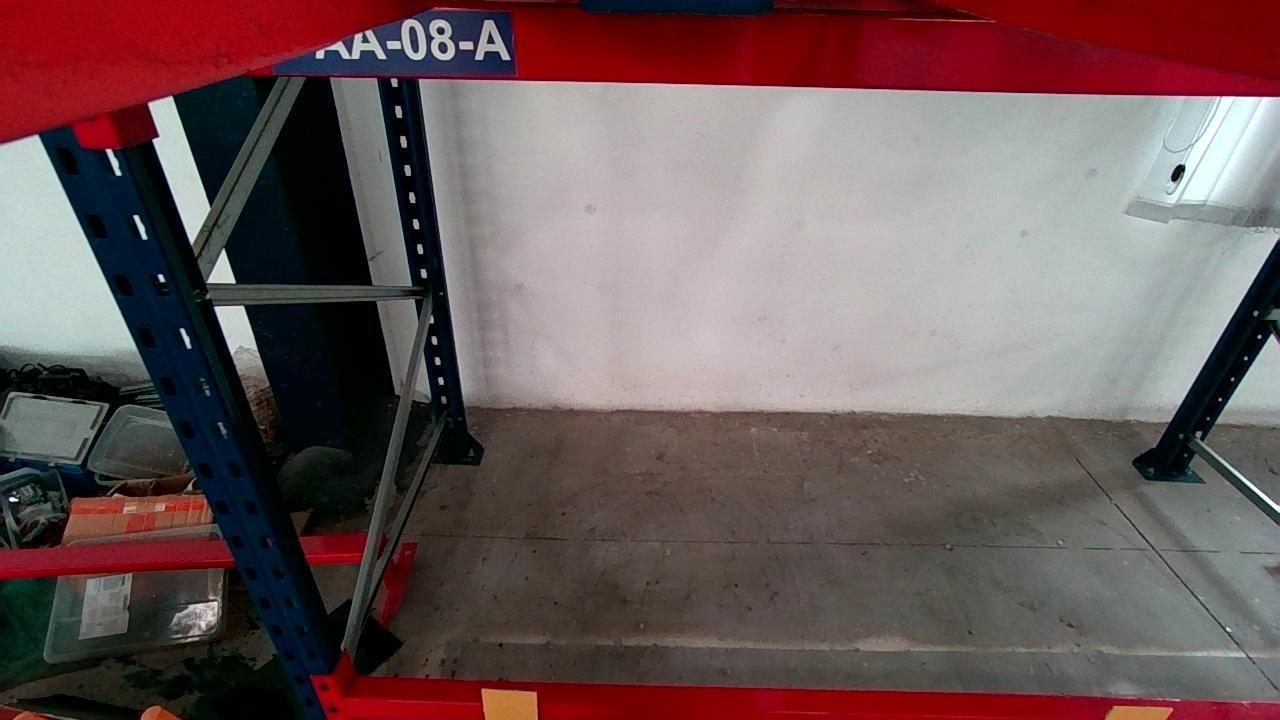h_rack: (252, 10, 1280, 95)
